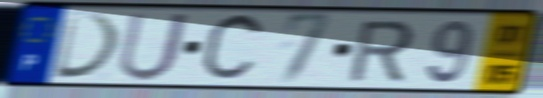7: (272, 10, 334, 89)
9: (424, 18, 475, 85)
C: (196, 10, 269, 87)
D: (50, 10, 125, 82)
R: (345, 18, 417, 83)
U: (114, 11, 194, 84)
